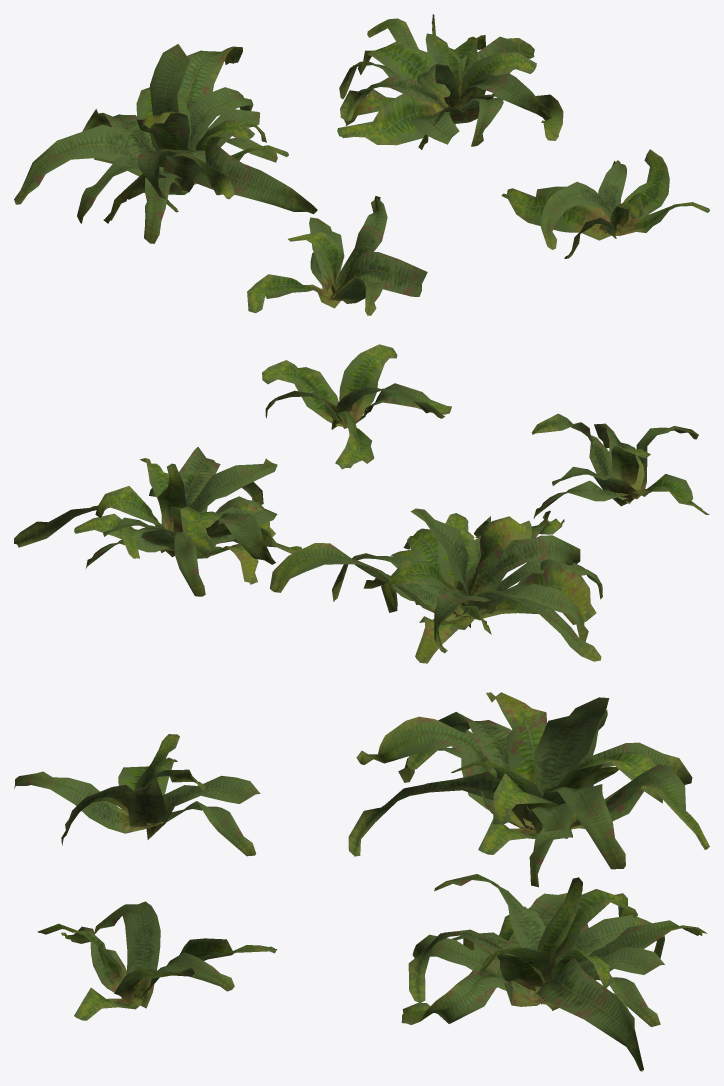
Rendered from ph_fern.glb.
3 views of the same model, one above another, from view 1: azimuth 30°, elevation 25°; view 2: azimuth 150°, elevation 25°; view 3: azimuth 270°, elevation 25° (orthographic). The views are drawn at different scales.
Visible parts, largest first — view 1: fern_02_b, fern_02_c, fern_02_d, fern_02_a; view 2: fern_02_b, fern_02_c, fern_02_d, fern_02_a; view 3: fern_02_b, fern_02_c, fern_02_a, fern_02_d.
Boxes of the visible parts, bbox=[...] form: fern_02_b: bbox=[14, 44, 317, 243]; fern_02_c: bbox=[337, 14, 563, 149]; fern_02_d: bbox=[501, 149, 709, 258]; fern_02_a: bbox=[247, 196, 427, 315]; fern_02_b: bbox=[270, 508, 602, 663]; fern_02_c: bbox=[14, 447, 301, 596]; fern_02_d: bbox=[262, 344, 451, 469]; fern_02_a: bbox=[531, 413, 709, 518]; fern_02_b: bbox=[348, 692, 709, 887]; fern_02_c: bbox=[401, 874, 707, 1071]; fern_02_a: bbox=[14, 734, 260, 856]; fern_02_d: bbox=[37, 901, 276, 1020].
Bounding box in the file's own units: 1.97 × 0.4277 × 1.72.
1 material, 1 textured.
